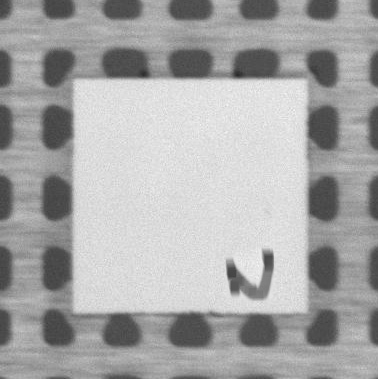DIE_INK: (224, 248, 273, 298)
